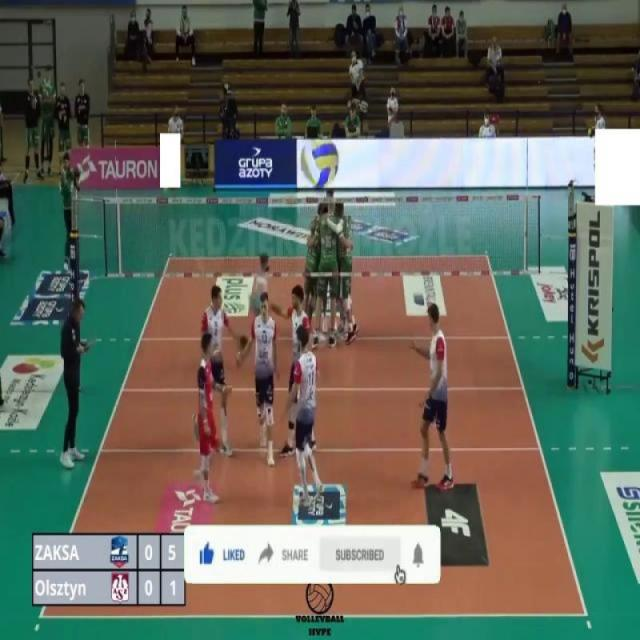volleyball: (300, 137, 340, 186), (586, 126, 594, 139)
